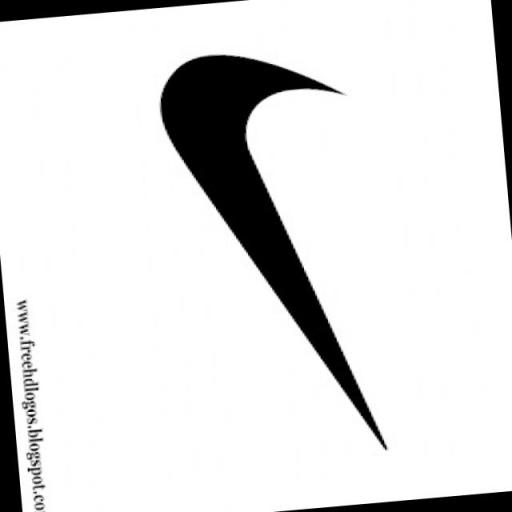Nike: (151, 41, 398, 472)
